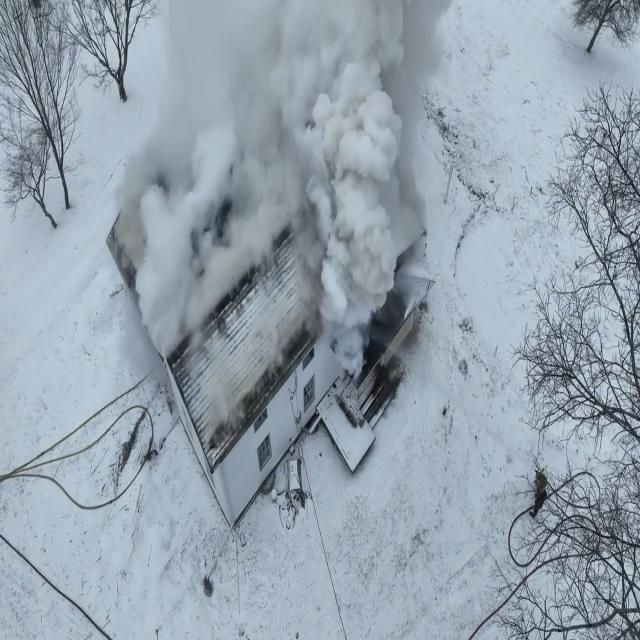Smoke: (120, 0, 459, 396)
